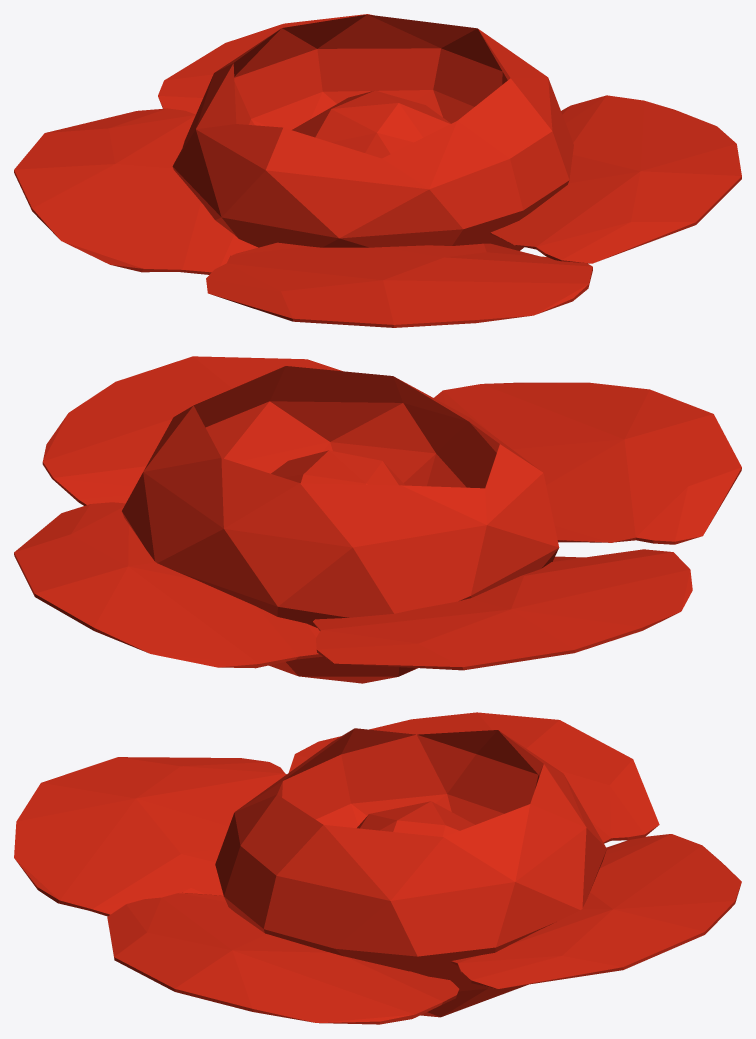
File: rafflesia.fbx
3 renders of one model, top to bottom at view 1: azimuth 30°, elevation 25°; view 2: azimuth 150°, elevation 25°; view 3: azimuth 270°, elevation 25°, orthographic. The views are drawn at different scales.
Visible parts, largest first — view 1: Plane.007; view 2: Plane.007; view 3: Plane.007.
Part boxes in pixels (left/top/right/bottom): Plane.007: left=14, top=14, right=741, bottom=327; Plane.007: left=14, top=356, right=741, bottom=683; Plane.007: left=14, top=712, right=741, bottom=1024.
Bounding box in the file's own units: 96.72 × 32.09 × 97.96.
